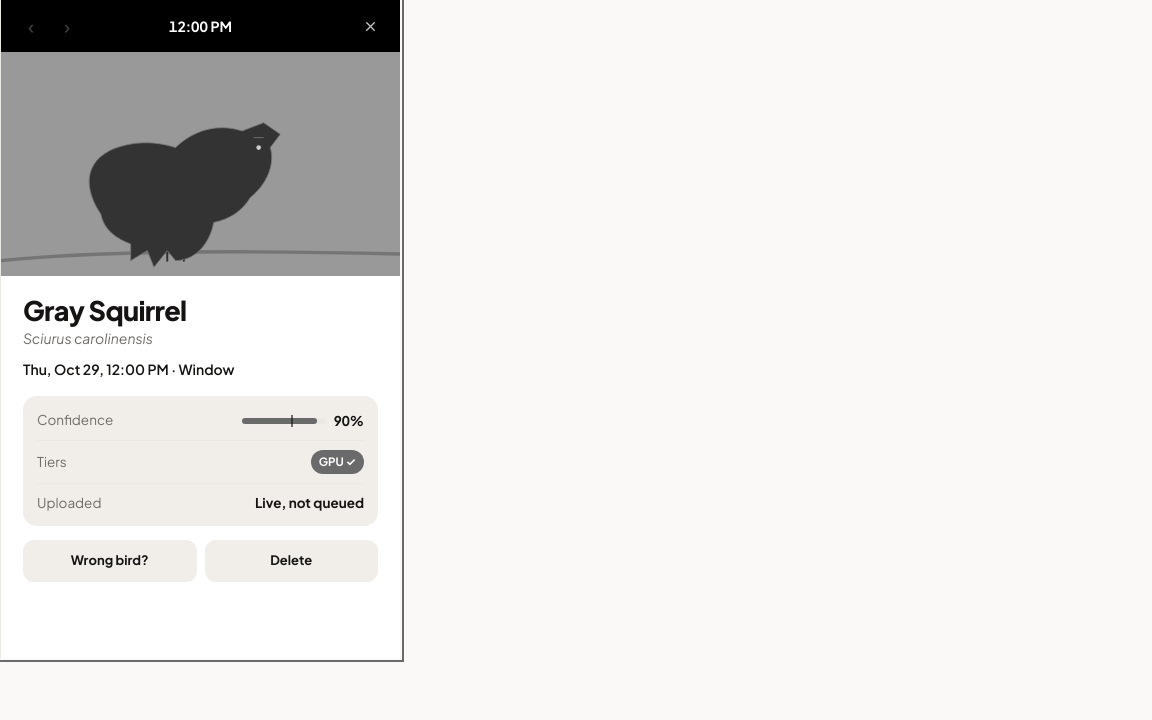
Test: species picker › opens from 'Wrong bird?' and saves the pick
Step 1. Click the button "Wrong bird?" → (110, 561), box left=23, top=540, right=196, bottom=582
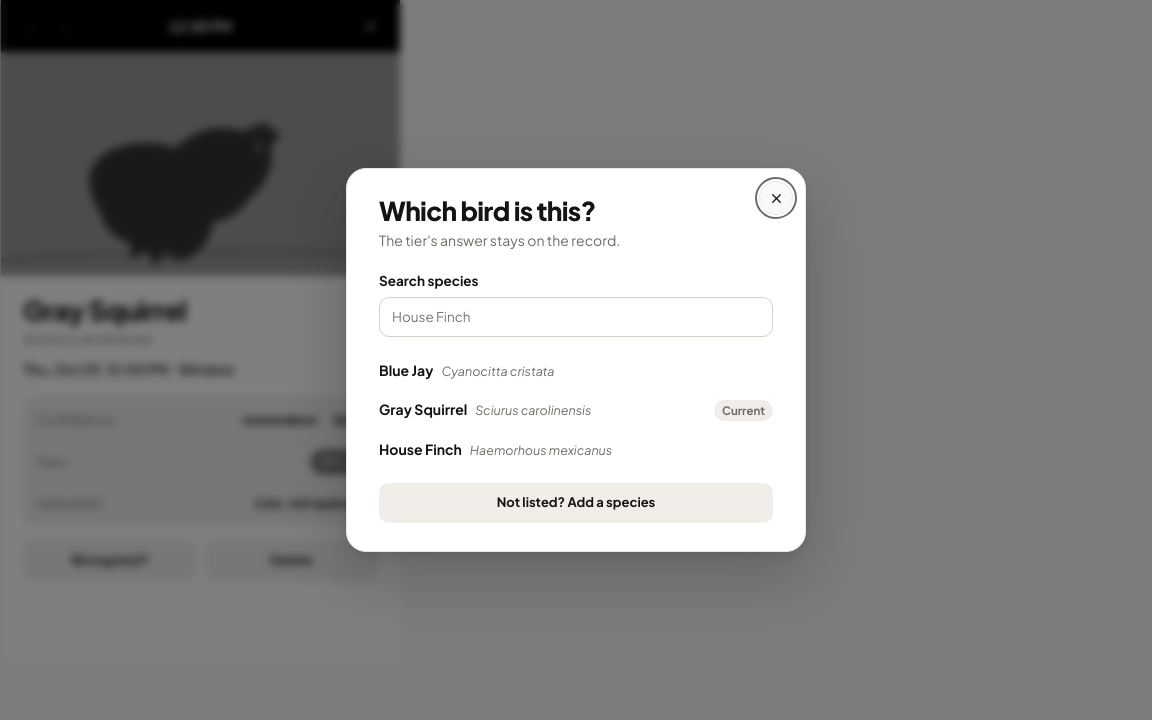
Step 2. Click the button "House Finch Haemorhous mexicanus" → (576, 450), box left=371, top=430, right=781, bottom=469
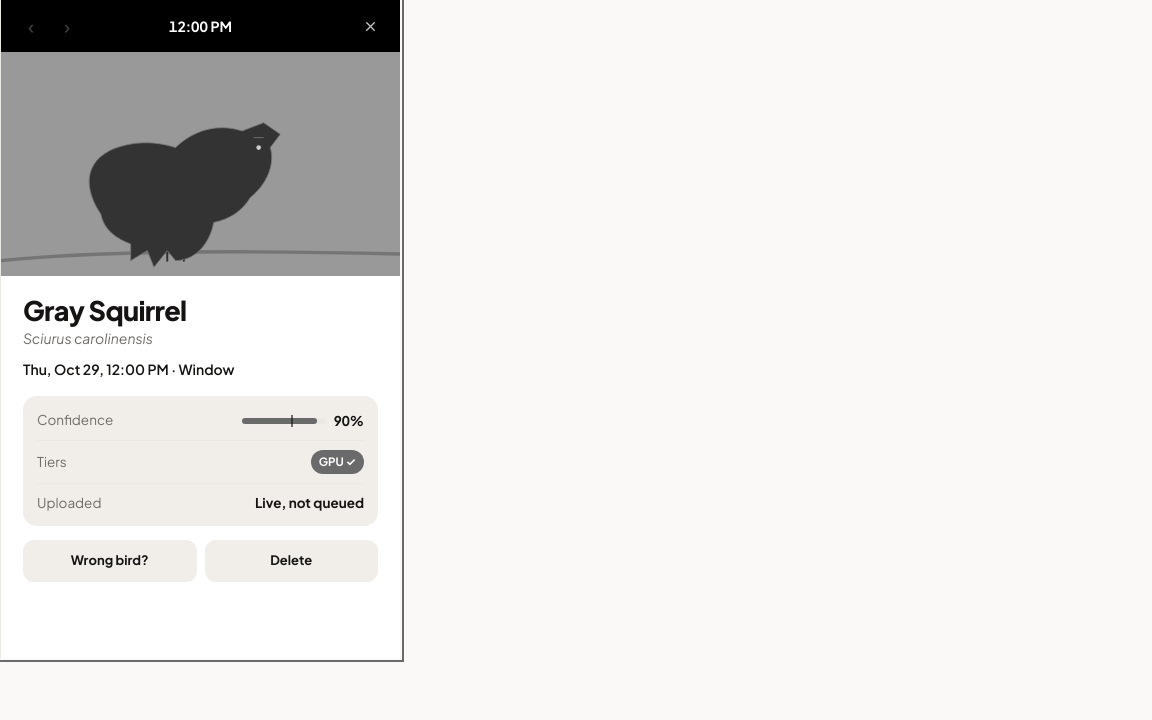
Check: the heading "Which bird is this?" is gone
